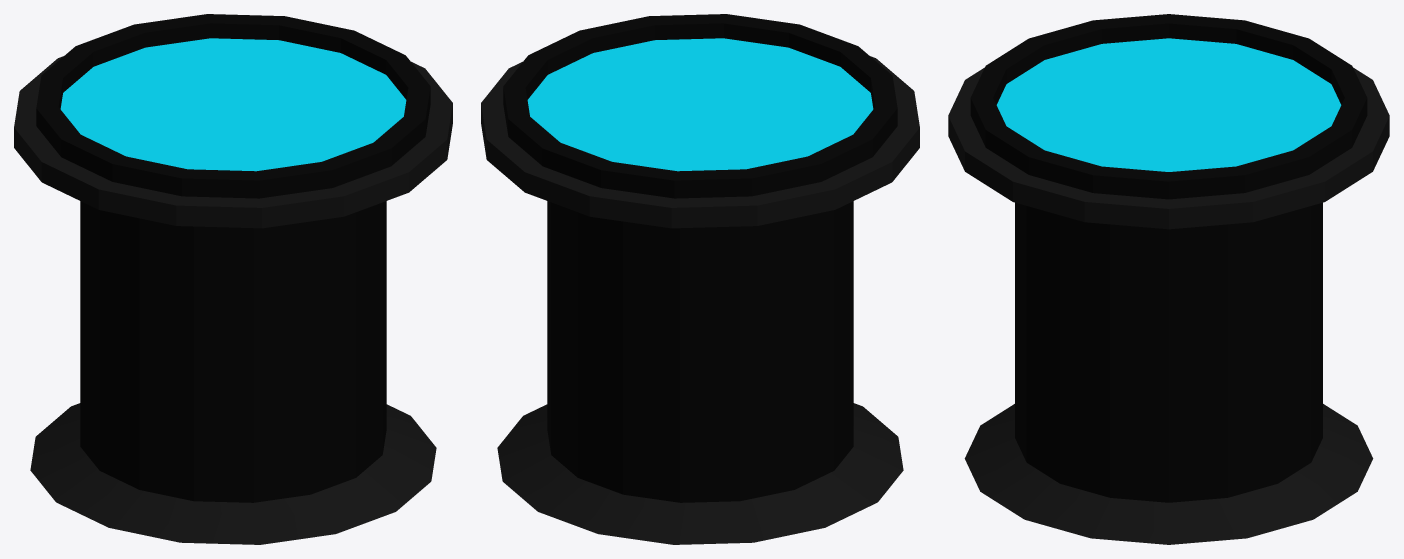
Rendered from Pinball bumper.FBX.
The picture shows the model from 3 angles, left to right: view 1: azimuth 30°, elevation 25°; view 2: azimuth 150°, elevation 25°; view 3: azimuth 270°, elevation 25°; orthographic projection.
Visible parts, largest first — view 1: Cylinder001; view 2: Cylinder001; view 3: Cylinder001.
Part boxes in pixels (x1,y1,x2,y2): Cylinder001: [14, 14, 452, 544]; Cylinder001: [481, 14, 919, 544]; Cylinder001: [948, 14, 1389, 544].
Size of the model in its own units: 61.13 by 55.12 by 61.13.
